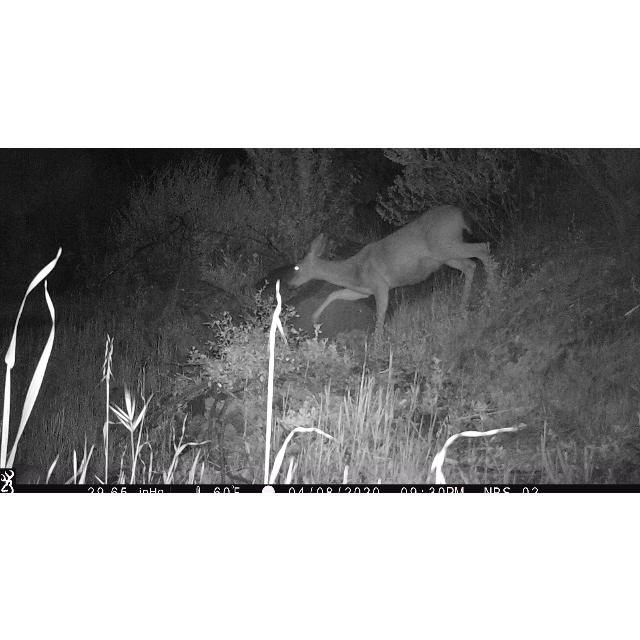animals: (290, 200, 494, 338)
